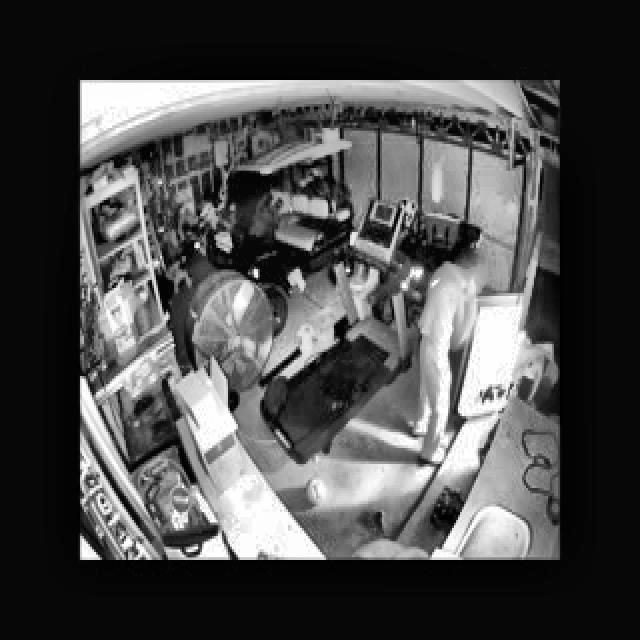burglary: (407, 242, 560, 472)
